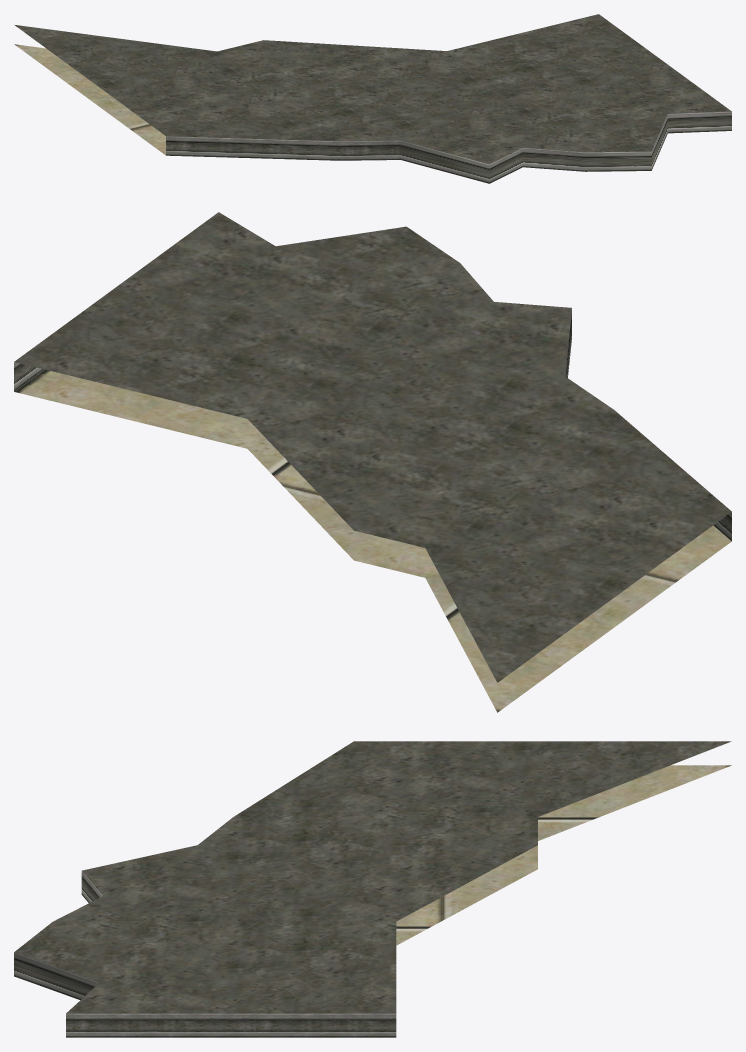
The model's file is DWARF_PALACE_MAINHALL_CAVEPLATFRM01.fbx.
The picture shows the model from 3 angles, top to bottom: view 1: azimuth 30°, elevation 25°; view 2: azimuth 150°, elevation 25°; view 3: azimuth 270°, elevation 25°; orthographic projection. The views are drawn at different scales.
Visible parts, largest first — view 1: DWARF_PALACE_MAINHALL_CAVEPLATFRM01; view 2: DWARF_PALACE_MAINHALL_CAVEPLATFRM01; view 3: DWARF_PALACE_MAINHALL_CAVEPLATFRM01.
Part boxes in pixels (<box>): DWARF_PALACE_MAINHALL_CAVEPLATFRM01: <box>14,14,731,183</box>; DWARF_PALACE_MAINHALL_CAVEPLATFRM01: <box>14,212,731,712</box>; DWARF_PALACE_MAINHALL_CAVEPLATFRM01: <box>14,741,731,1037</box>.
Bounding box in the file's own units: 121087 × 5000 × 134880.
3 materials, 3 textured.
